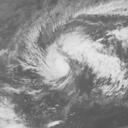cyclone: (31, 28, 92, 86)
